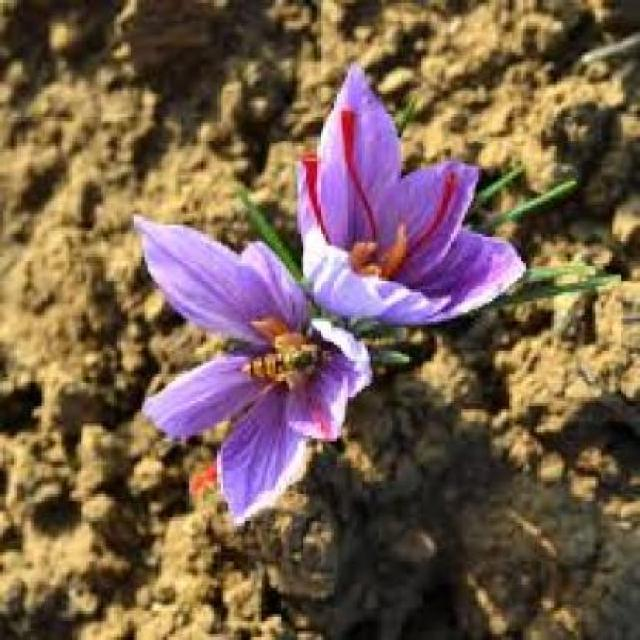Flower: (130, 208, 372, 522), (290, 60, 530, 322)
stigma: (334, 105, 377, 247), (296, 143, 332, 251), (410, 169, 454, 255)
